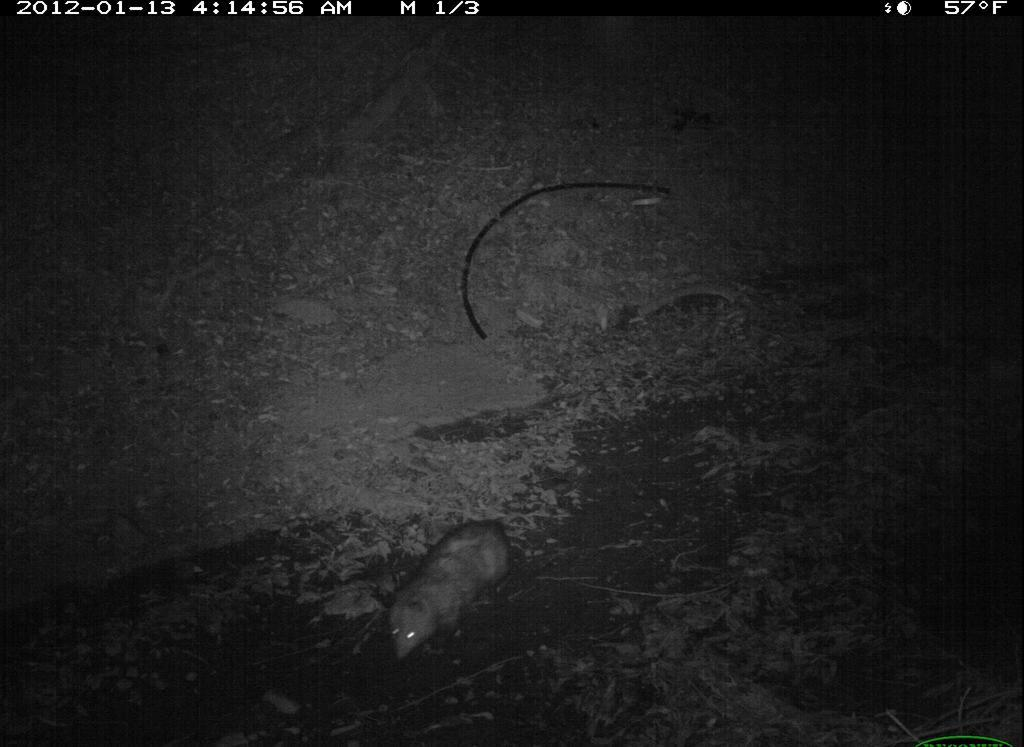opossum: (374, 510, 529, 673)
